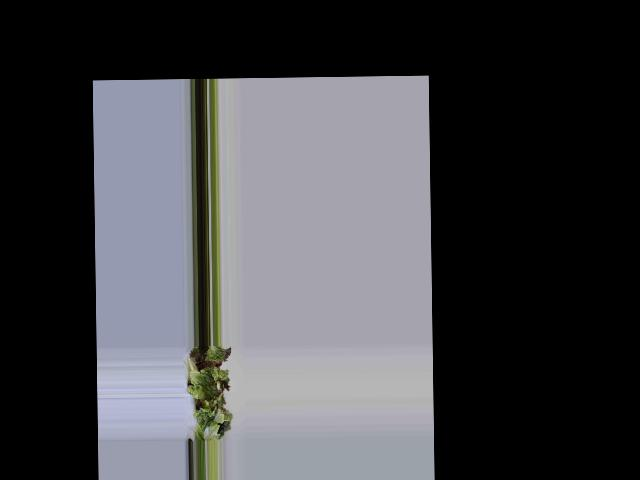lettuce: (192, 348, 228, 435)
